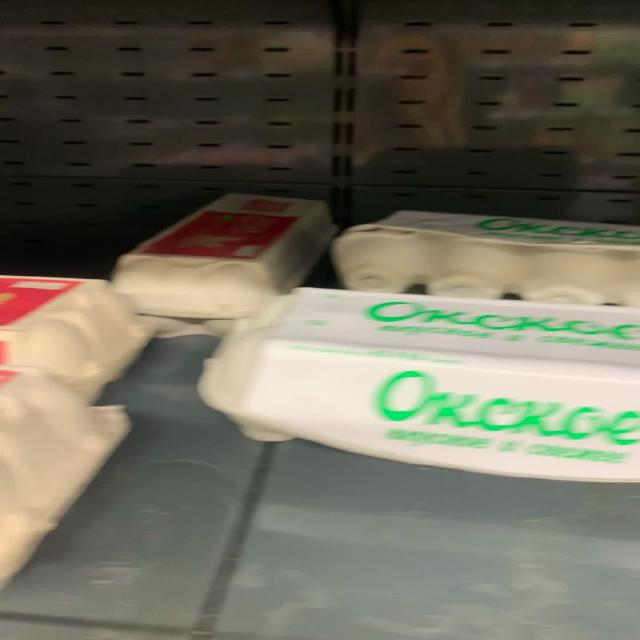egg box: (198, 284, 636, 484), (112, 193, 342, 338), (325, 206, 638, 306)
